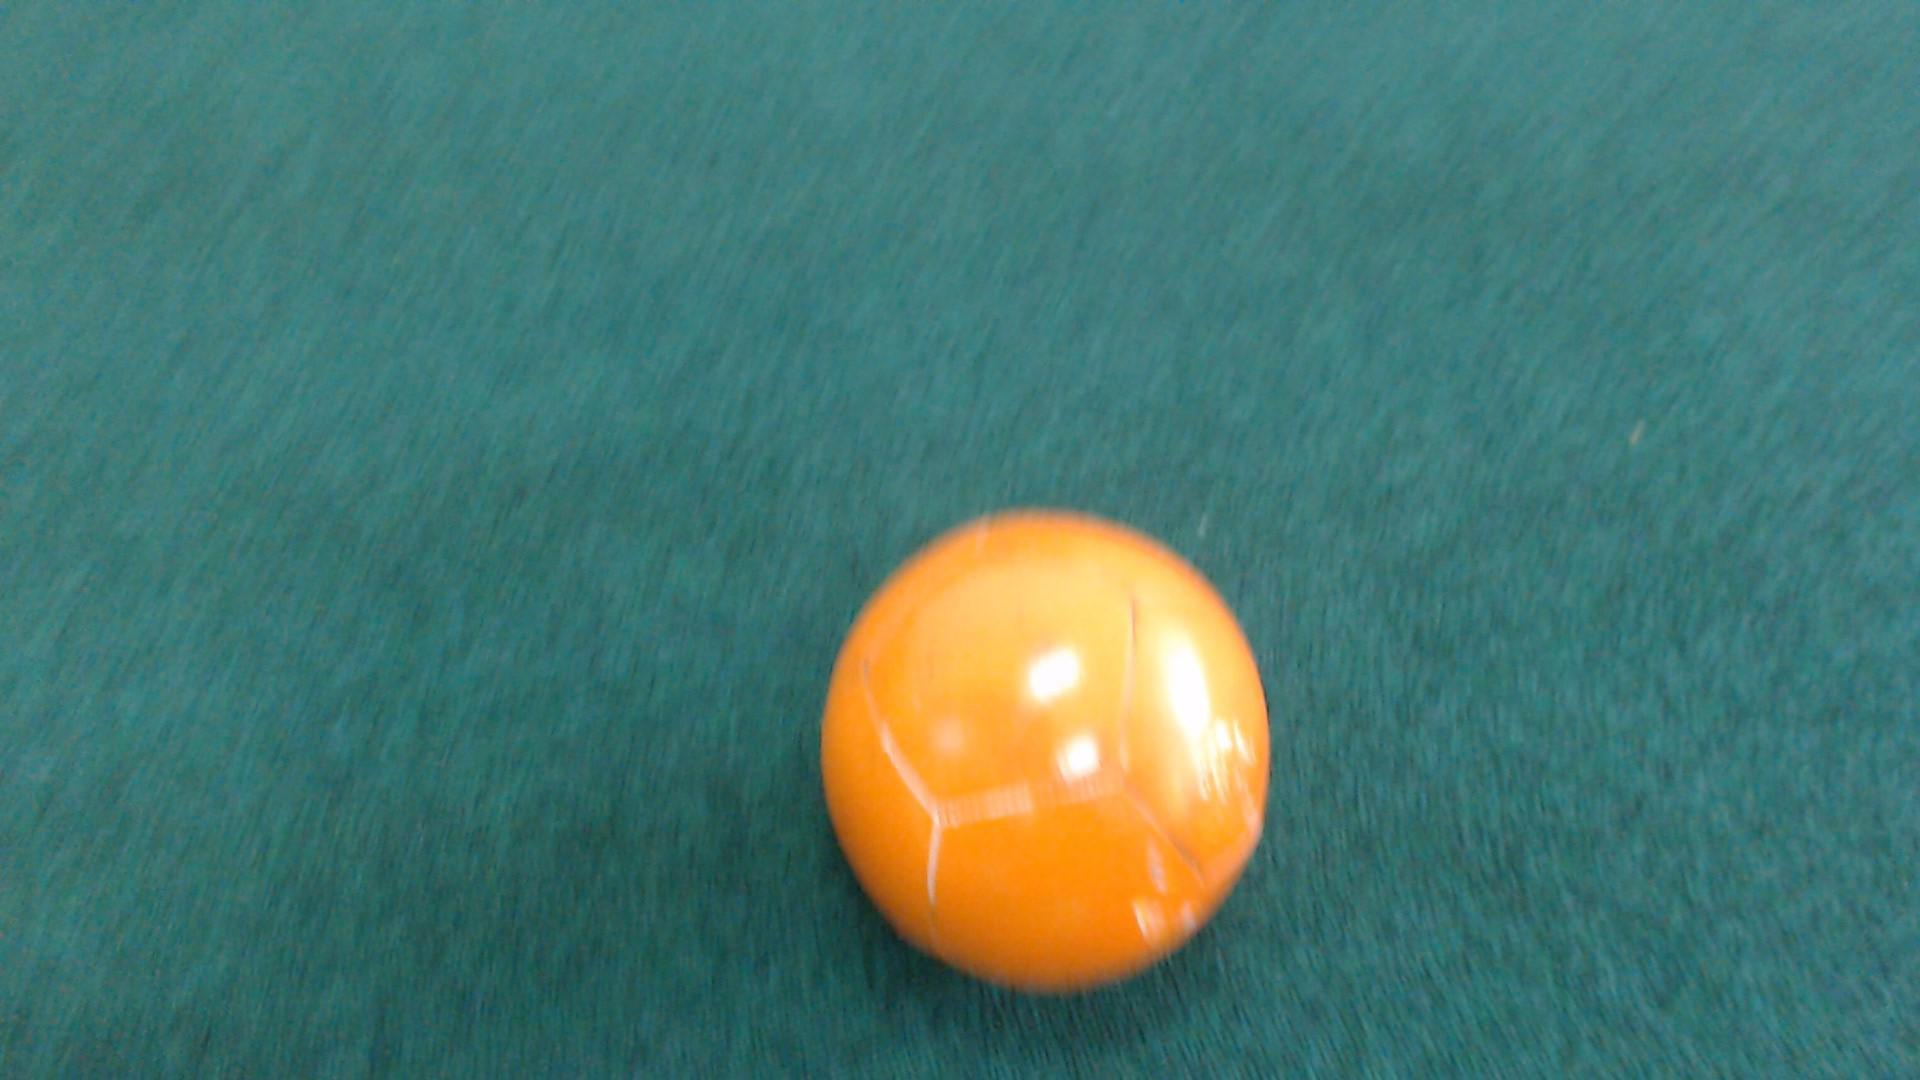bola: (767, 456, 1300, 1007)
